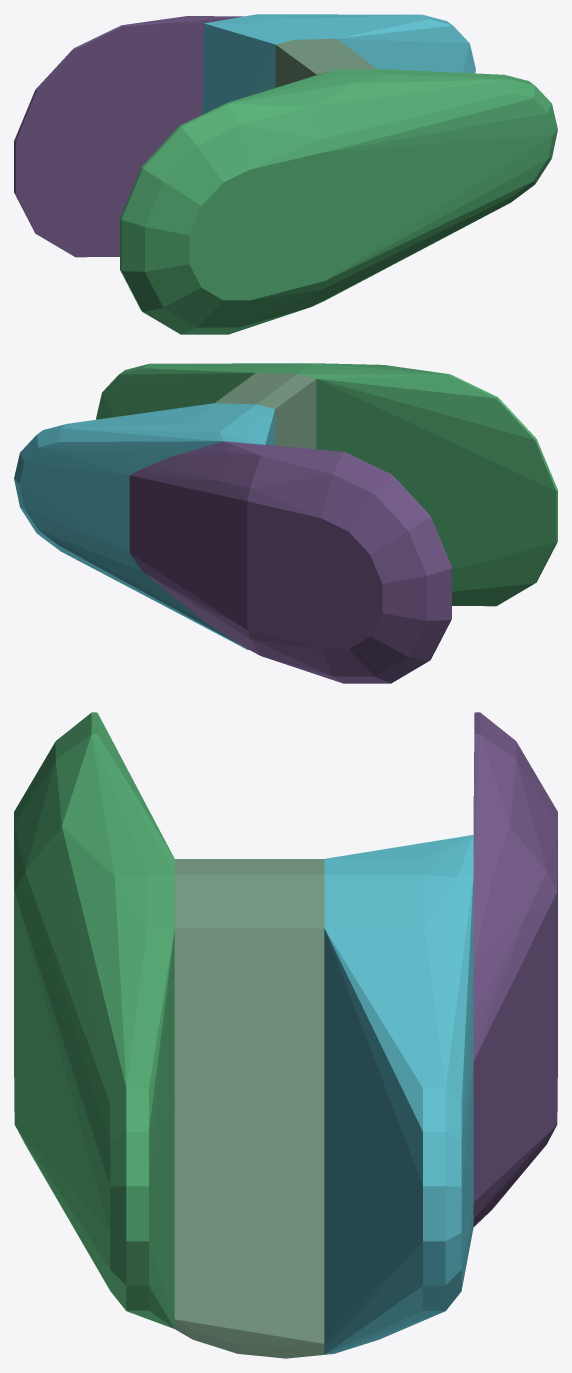
3 views of the same model, one above another, from view 1: azimuth 30°, elevation 25°; view 2: azimuth 150°, elevation 25°; view 3: azimuth 270°, elevation 25° (orthographic). The views are drawn at different scales.
Visible parts, largest first — view 1: geometry_3, geometry_1, geometry_2, geometry_0; view 2: geometry_1, geometry_3, geometry_2, geometry_0; view 3: geometry_3, geometry_0, geometry_2, geometry_1.
Part boxes in pixels (x1,y1,x2,y2): geometry_3: [120, 69, 557, 334]; geometry_1: [14, 16, 243, 257]; geometry_2: [202, 14, 475, 114]; geometry_0: [275, 38, 376, 87]; geometry_1: [129, 441, 451, 683]; geometry_3: [96, 363, 557, 606]; geometry_2: [14, 403, 274, 649]; geometry_0: [215, 373, 316, 449]; geometry_3: [14, 712, 174, 1328]; geometry_0: [174, 859, 324, 1358]; geometry_2: [324, 835, 473, 1354]; geometry_1: [473, 712, 557, 1226].
Bounding box in the file's own units: 0.0481 × 0.0251 × 0.0281.
